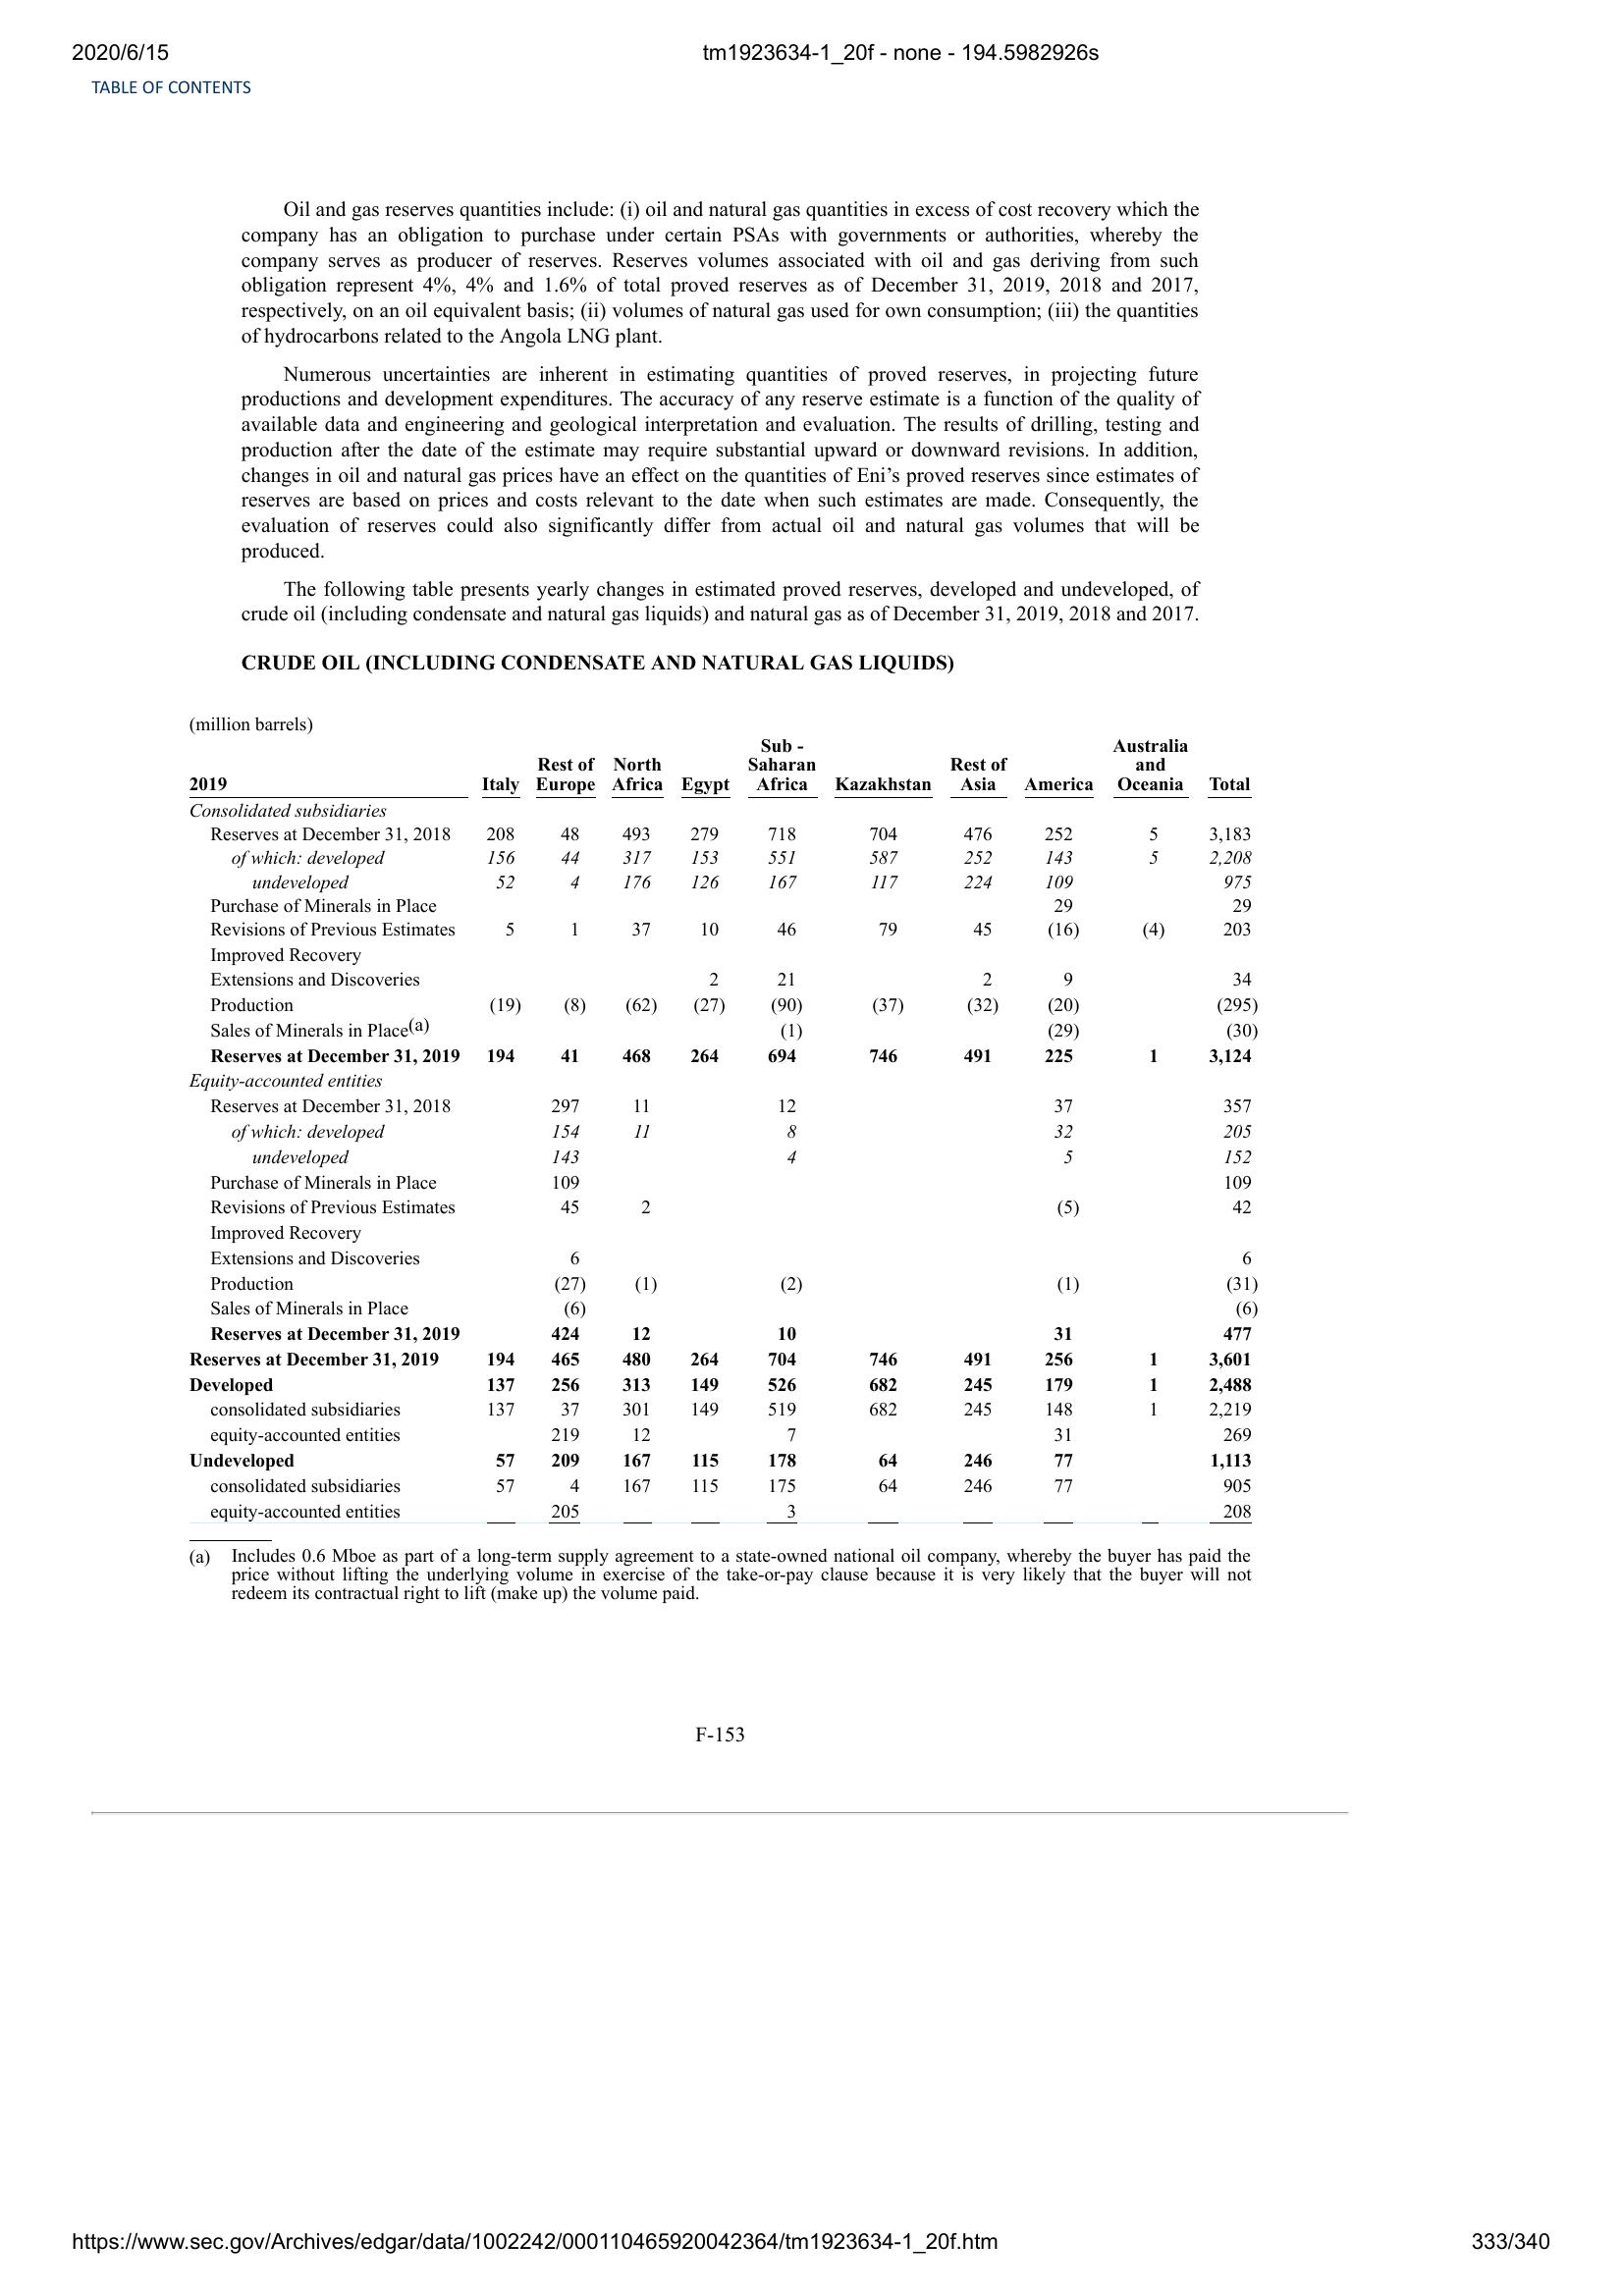table: (179, 735, 1265, 1527)
